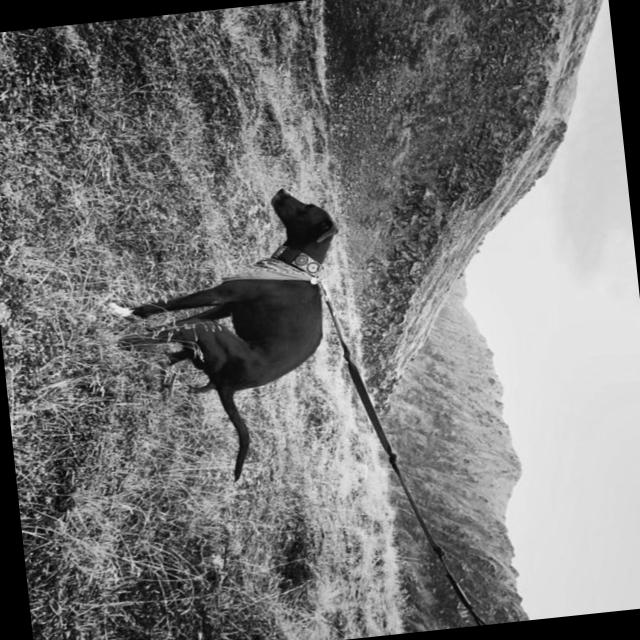squatting: (90, 178, 372, 496)
